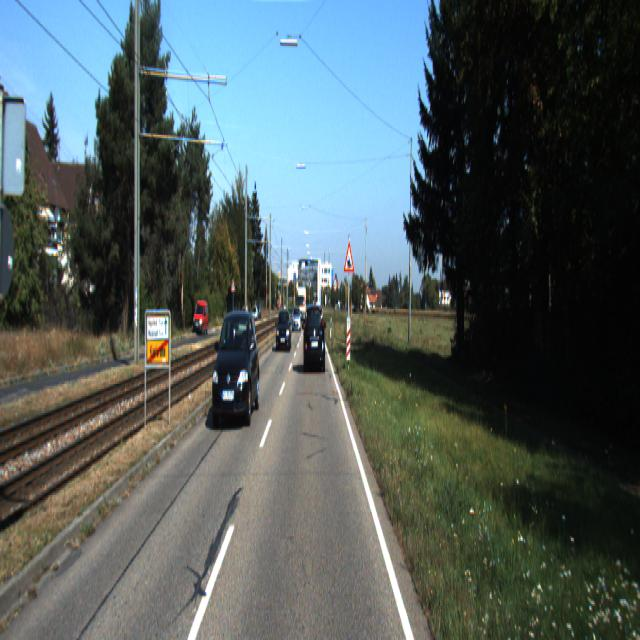Car: (212, 306, 262, 426), (304, 303, 326, 375), (276, 308, 292, 352), (193, 301, 209, 337), (292, 307, 302, 333)
